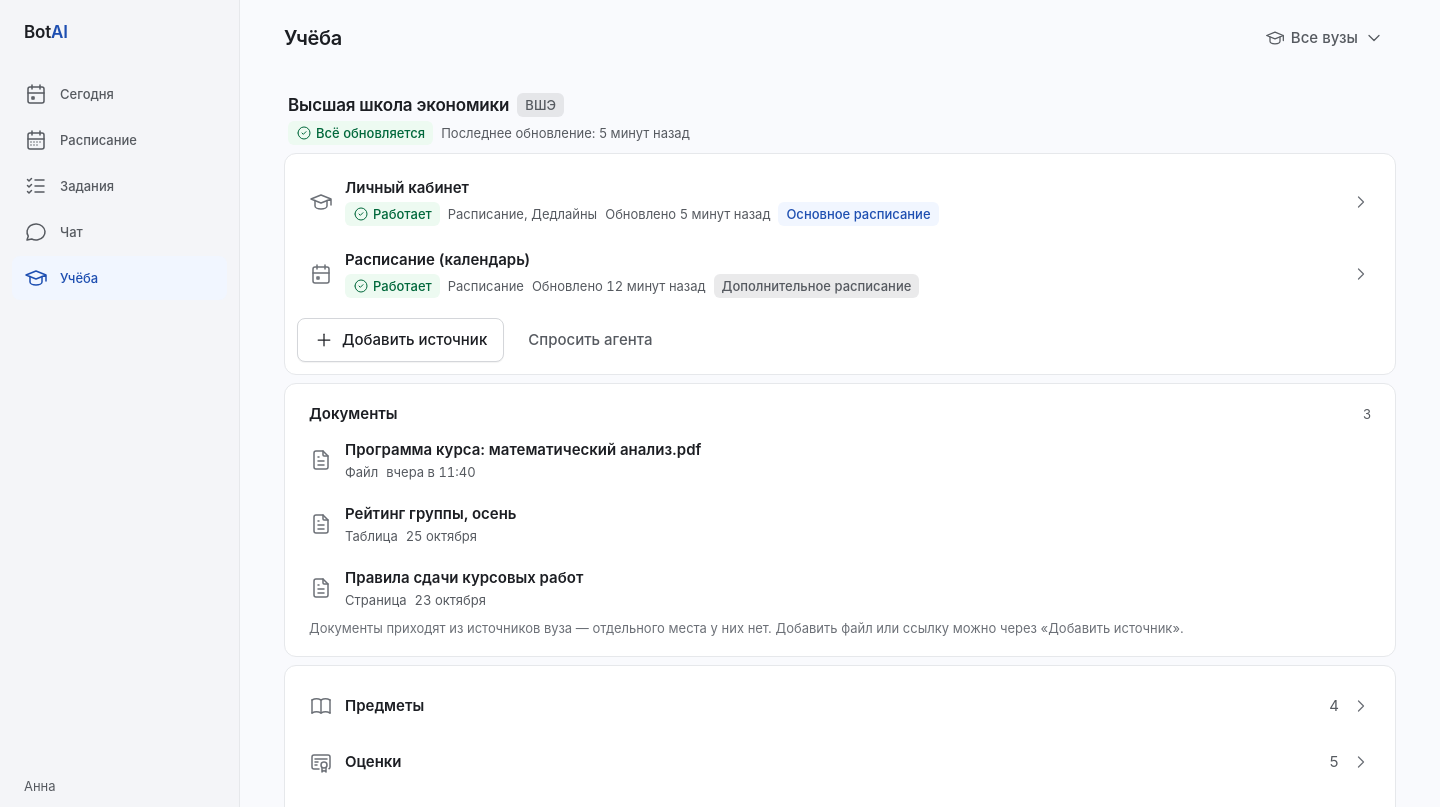
Test: карточка источника › что это, что читает, описание чтения, ревизии, прочитанное и честная заглушка запусков
Click the button with aria-label "Личный кабинет:" at coordinates (840, 202), box [297, 166, 1383, 238]
(page scrolled)
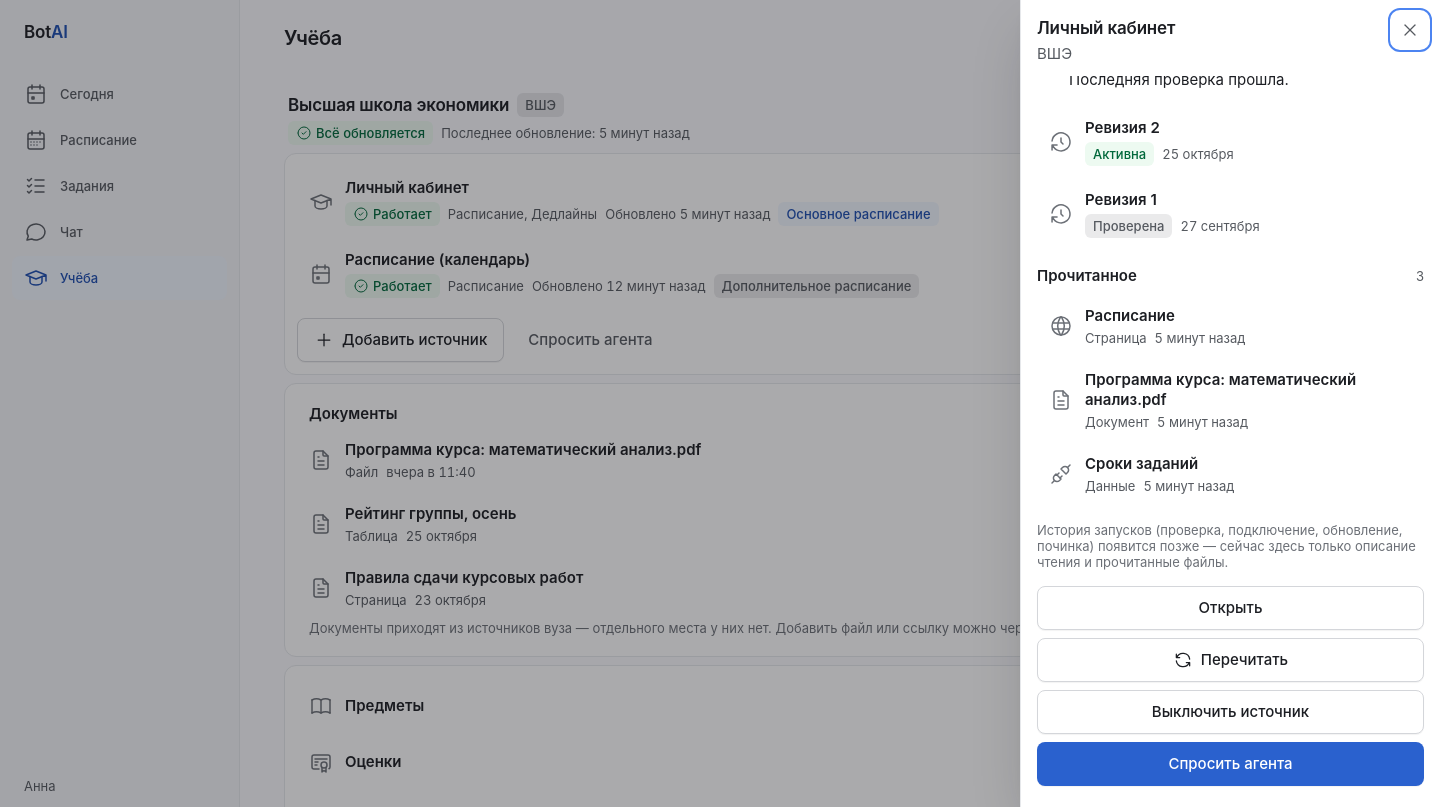
Now the text "Ревизия 2" is shown, box [1085, 118, 1160, 137]
Now the text "Активна" is shown, box [1085, 142, 1154, 166]
Now the heading "Прочитанное" is shown, box [1037, 266, 1137, 286]
